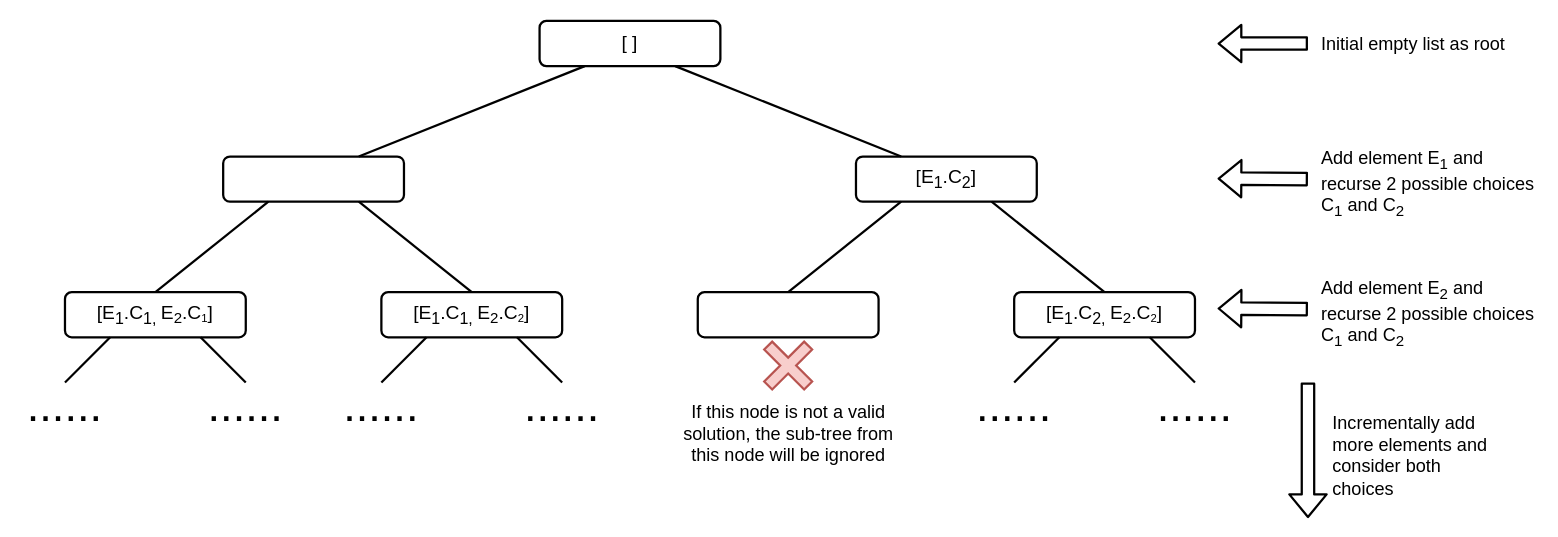
The diagram is 1558 pixels wide and 537 high, and some of its shapes have lost their labels. The shapes that lost their labels are listed below. From the top down, each one's centre as x and y in pixels, then its label:
At [313,178]: "[E 1 .C 1 ]".
At [787,314]: "[E 1 .C 2, E 2 .C 1 ]".
